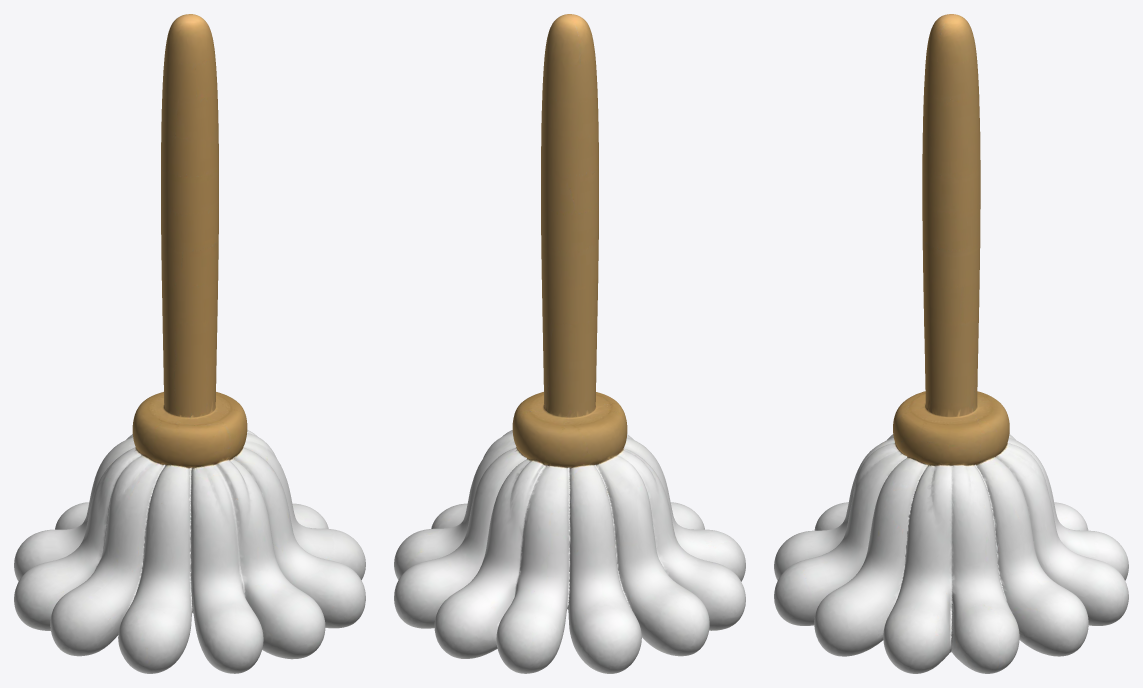
The model's file is mop.glb.
3 views of the same model, side by side, from view 1: azimuth 30°, elevation 25°; view 2: azimuth 150°, elevation 25°; view 3: azimuth 270°, elevation 25° (orthographic).
Size of the model in its own units: 1.03 by 1.9 by 1.03.
Materials: 1 (1 with a texture image).
